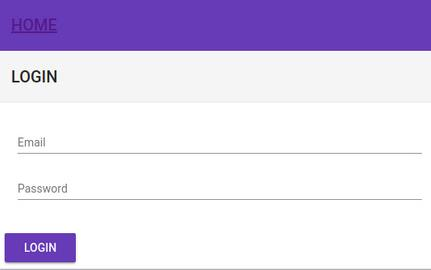button: (1, 231, 78, 263)
field: (16, 133, 423, 159), (15, 180, 424, 202)
